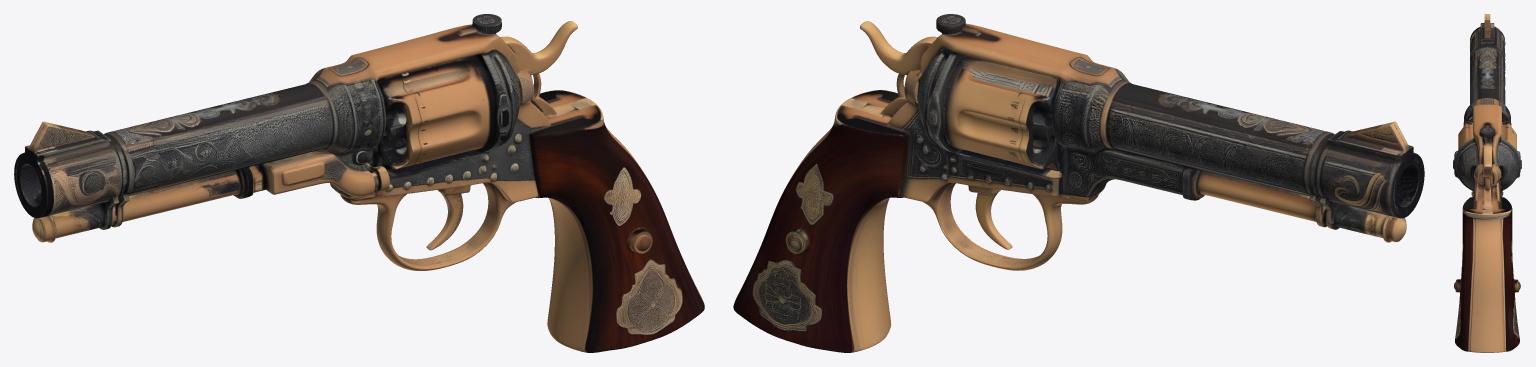
File: TX-a-victorian-steampunk-re-414.glb
3 views of the same model, side by side, from view 1: azimuth 30°, elevation 25°; view 2: azimuth 150°, elevation 25°; view 3: azimuth 270°, elevation 25° (orthographic). The views are drawn at different scales.
Bounding box in the file's own units: 2 × 0.9906 × 0.3404.
1 material, 1 textured.
